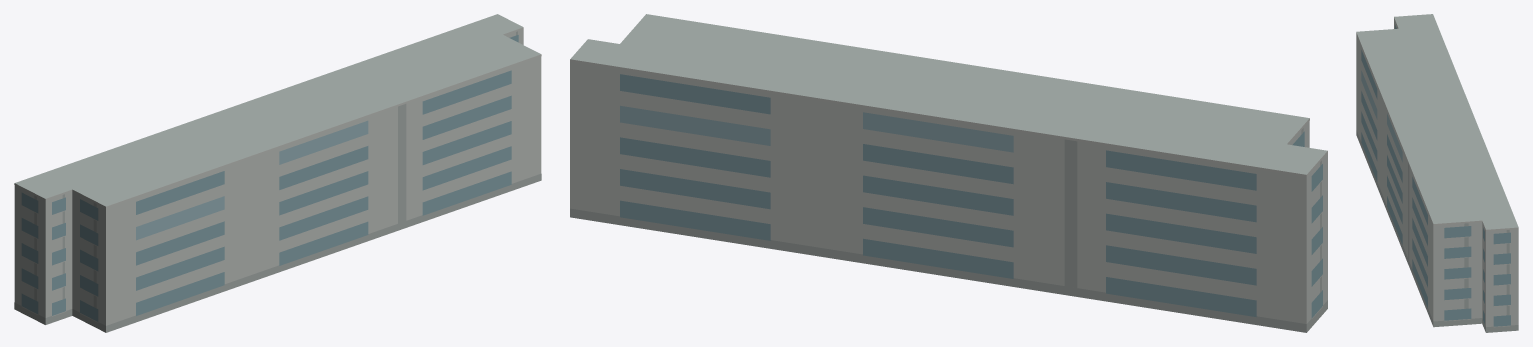
The model's file is residential-d33ab8fd-2130-4898-be4c-23b7851c8faf.glb.
3 renders of one model, left to right at view 1: azimuth 30°, elevation 25°; view 2: azimuth 150°, elevation 25°; view 3: azimuth 270°, elevation 25°, orthographic. The views are drawn at different scales.
Parts seen in each view (by area): view 1: residential-d33ab8fd-2130-4898-be4c-23b7851c8faf.tmp; view 2: residential-d33ab8fd-2130-4898-be4c-23b7851c8faf.tmp; view 3: residential-d33ab8fd-2130-4898-be4c-23b7851c8faf.tmp.
Boxes of the visible parts, x1,y1,x2,y2 form: residential-d33ab8fd-2130-4898-be4c-23b7851c8faf.tmp: (14, 14, 541, 332); residential-d33ab8fd-2130-4898-be4c-23b7851c8faf.tmp: (570, 14, 1327, 332); residential-d33ab8fd-2130-4898-be4c-23b7851c8faf.tmp: (1356, 14, 1518, 332).
Bounding box in the file's own units: 68.47 × 15.25 × 21.8.
